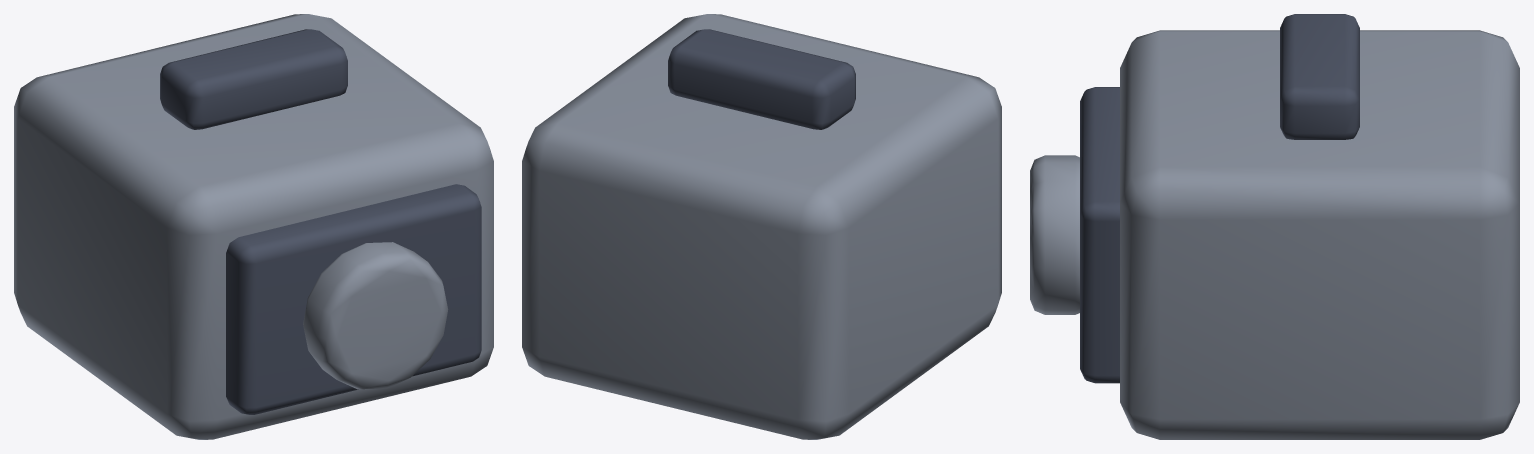
Rendered from Fx_Co2Filter_Used.glb.
3 renders of one model, left to right at view 1: azimuth 30°, elevation 25°; view 2: azimuth 150°, elevation 25°; view 3: azimuth 270°, elevation 25°, orthographic. The views are drawn at different scales.
Visible parts, largest first — view 1: Fx_Co2Filter_Used.Body, Fx_Co2Filter_Used.Grille, Fx_Co2Filter_Used.Port, Fx_Co2Filter_Used.Handle; view 2: Fx_Co2Filter_Used.Body, Fx_Co2Filter_Used.Handle; view 3: Fx_Co2Filter_Used.Body, Fx_Co2Filter_Used.Grille, Fx_Co2Filter_Used.Handle, Fx_Co2Filter_Used.Port.
Boxes of the visible parts, x1,y1,x2,y2 form: Fx_Co2Filter_Used.Body: (14, 14, 493, 439); Fx_Co2Filter_Used.Grille: (226, 184, 481, 414); Fx_Co2Filter_Used.Port: (303, 242, 448, 389); Fx_Co2Filter_Used.Handle: (160, 29, 347, 129); Fx_Co2Filter_Used.Body: (522, 14, 1001, 439); Fx_Co2Filter_Used.Handle: (668, 29, 855, 129); Fx_Co2Filter_Used.Body: (1120, 30, 1519, 439); Fx_Co2Filter_Used.Grille: (1080, 87, 1119, 383); Fx_Co2Filter_Used.Handle: (1280, 14, 1359, 139); Fx_Co2Filter_Used.Port: (1030, 155, 1079, 314).
Bounding box in the file's own units: 0.2 × 0.177 × 0.245.
Materials: 1 (1 with a texture image).
